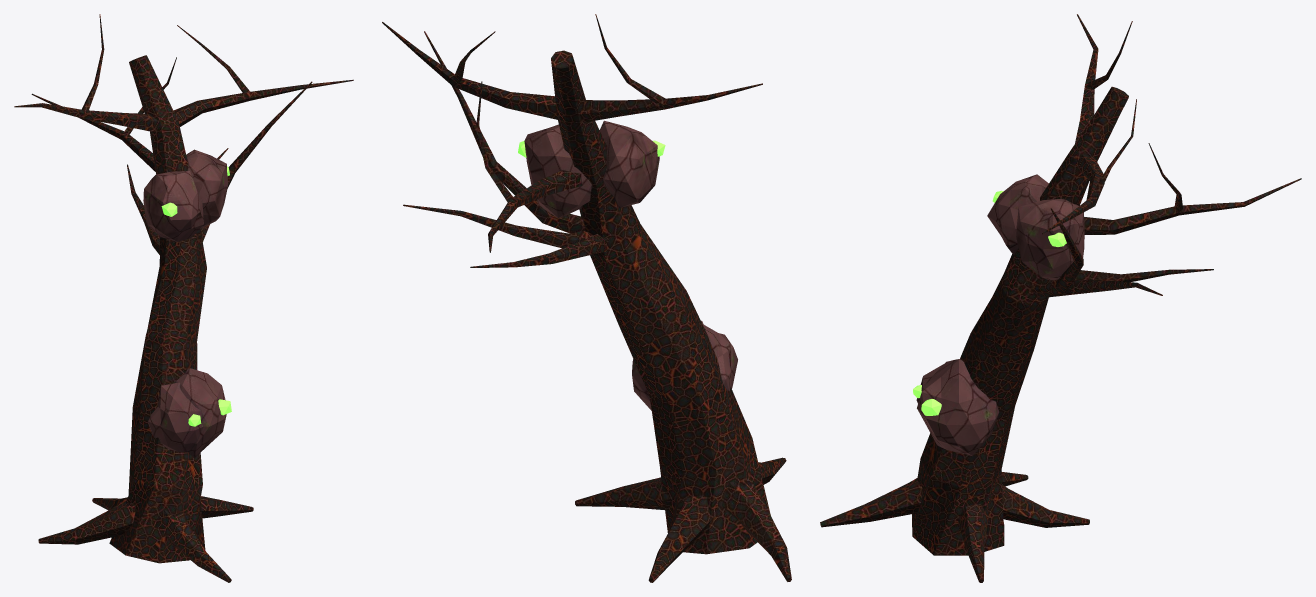
File: blight_tree.glb
The picture shows the model from 3 angles, left to right: view 1: azimuth 30°, elevation 25°; view 2: azimuth 150°, elevation 25°; view 3: azimuth 270°, elevation 25°; orthographic projection. The views are drawn at different scales.
Visible parts, largest first — view 1: blight_tree, blight_tree_glow; view 2: blight_tree; view 3: blight_tree, blight_tree_glow.
Part boxes in pixels (x1,y1,x2,y2): blight_tree: (14, 14, 353, 582); blight_tree_glow: (161, 166, 231, 426); blight_tree: (382, 14, 791, 582); blight_tree: (820, 14, 1301, 582); blight_tree_glow: (913, 190, 1066, 415).
Bounding box in the file's own units: 3.12 × 4.4 × 3.64.
2 materials, 1 textured.
